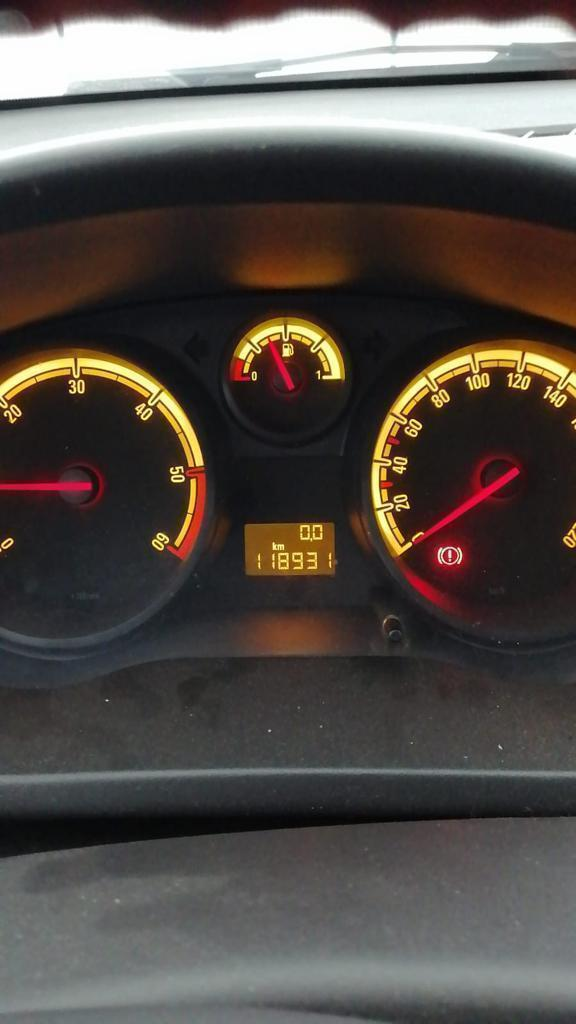,: (309, 538, 312, 542)
0: (298, 523, 310, 541), (312, 523, 323, 541)
1: (255, 551, 263, 570), (325, 551, 333, 569), (268, 552, 276, 569)
3: (305, 550, 318, 570)
8: (277, 551, 289, 571)
9: (290, 551, 304, 571)
X: (270, 540, 277, 551), (276, 543, 284, 551)
odometer: (239, 519, 338, 578)
